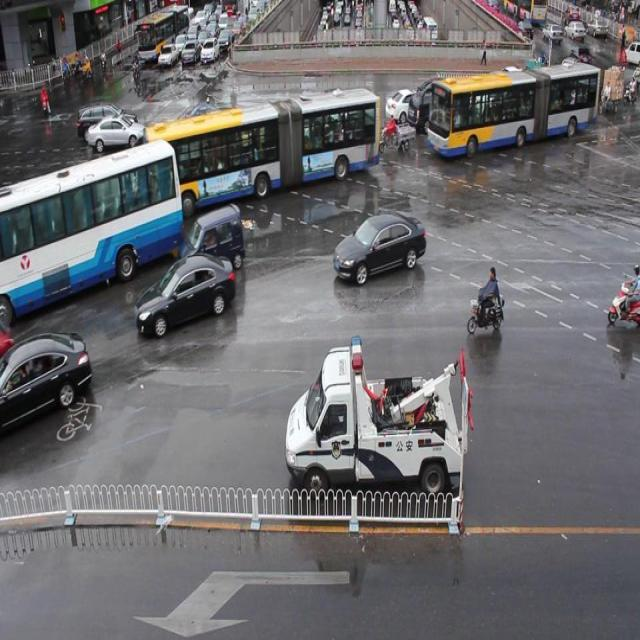bus: (286, 333, 474, 494)
car: (1, 335, 90, 432), (138, 255, 236, 335), (334, 214, 426, 278), (180, 208, 245, 272), (193, 113, 251, 161), (407, 89, 460, 134), (88, 114, 147, 153), (77, 103, 136, 139), (212, 126, 256, 174), (180, 100, 229, 136), (314, 107, 356, 148), (385, 86, 429, 124), (417, 77, 471, 106), (320, 87, 362, 122), (308, 96, 352, 128), (492, 62, 530, 94), (470, 85, 508, 116), (498, 73, 531, 105)
van: (1, 148, 182, 322), (146, 90, 380, 210), (429, 66, 599, 156)
